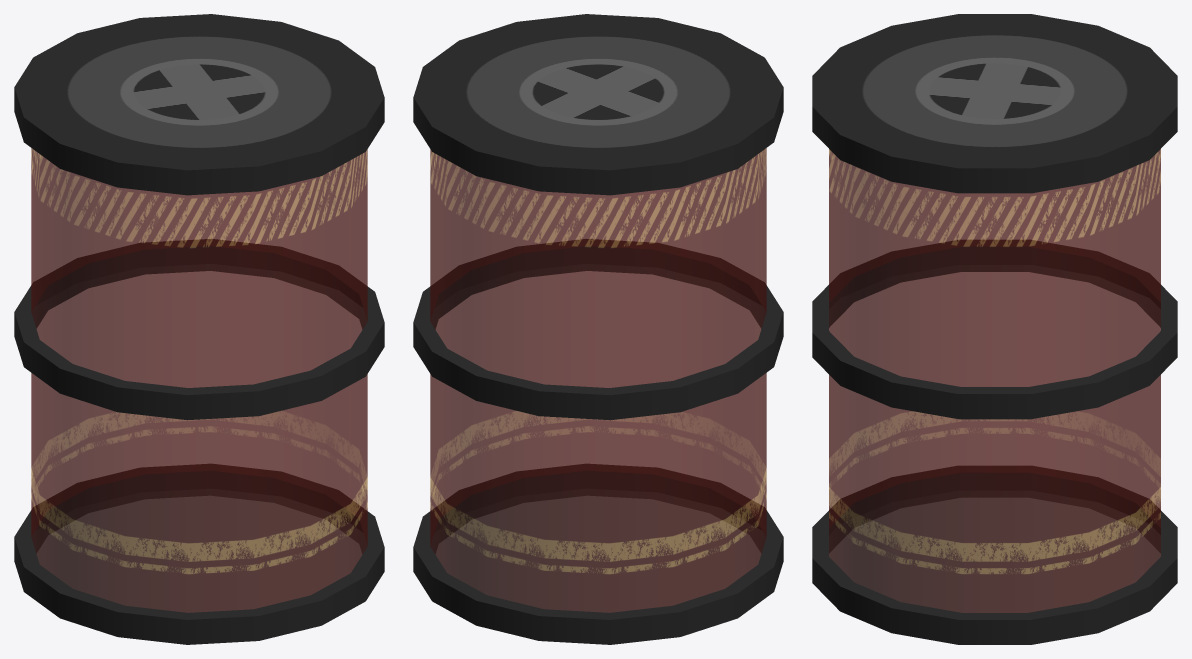
The model's file is BarrelExplosive.fbx.
3 views of the same model, side by side, from view 1: azimuth 30°, elevation 25°; view 2: azimuth 150°, elevation 25°; view 3: azimuth 270°, elevation 25° (orthographic).
Parts seen in each view (by area): view 1: Cylinder; view 2: Cylinder; view 3: Cylinder.
Boxes of the visible parts, x1,y1,x2,y2 form: Cylinder: (14,14,384,644); Cylinder: (413,14,783,644); Cylinder: (812,14,1177,644).
Bounding box in the file's own units: 165 × 238 × 165.
Materials: 2 (2 with a texture image).
